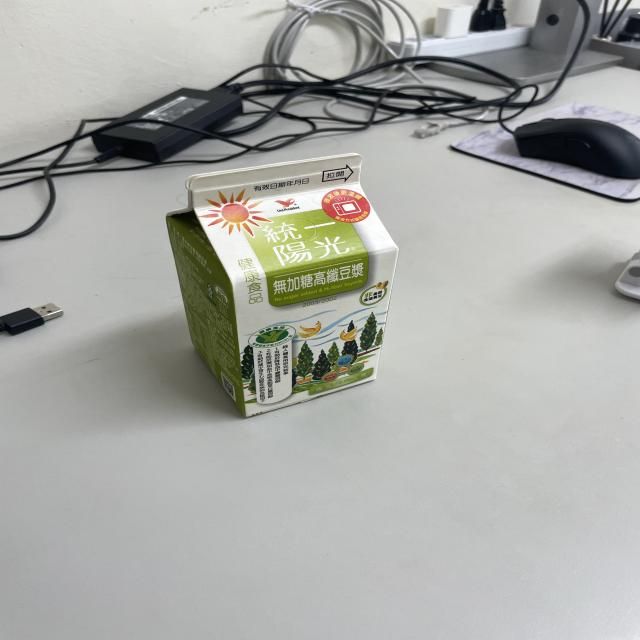TongYi_UnsweetenedHighFiberSoyMilk: (153, 150, 399, 421)
